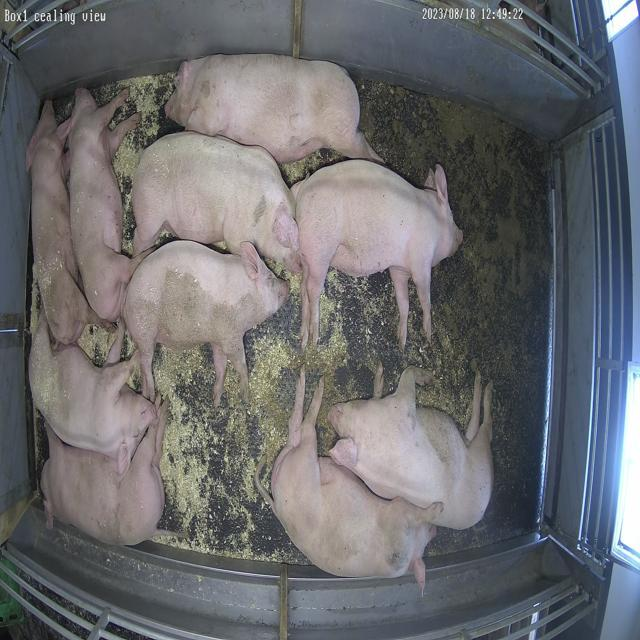Dirt: (341, 80, 552, 556)
Pig: (272, 370, 437, 594), (293, 160, 464, 348), (123, 241, 288, 406), (329, 367, 492, 530), (165, 53, 383, 162), (133, 132, 301, 272), (29, 315, 156, 474), (40, 405, 166, 546), (68, 88, 139, 322), (26, 101, 91, 344)
